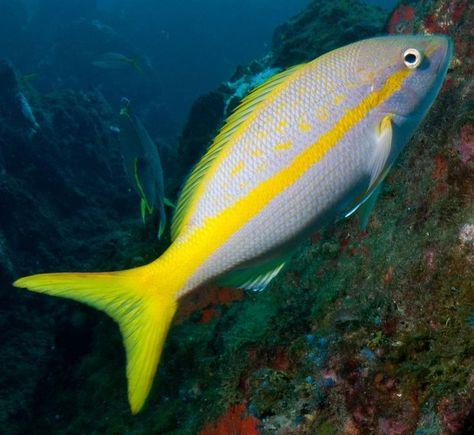fish: (12, 33, 454, 417)
